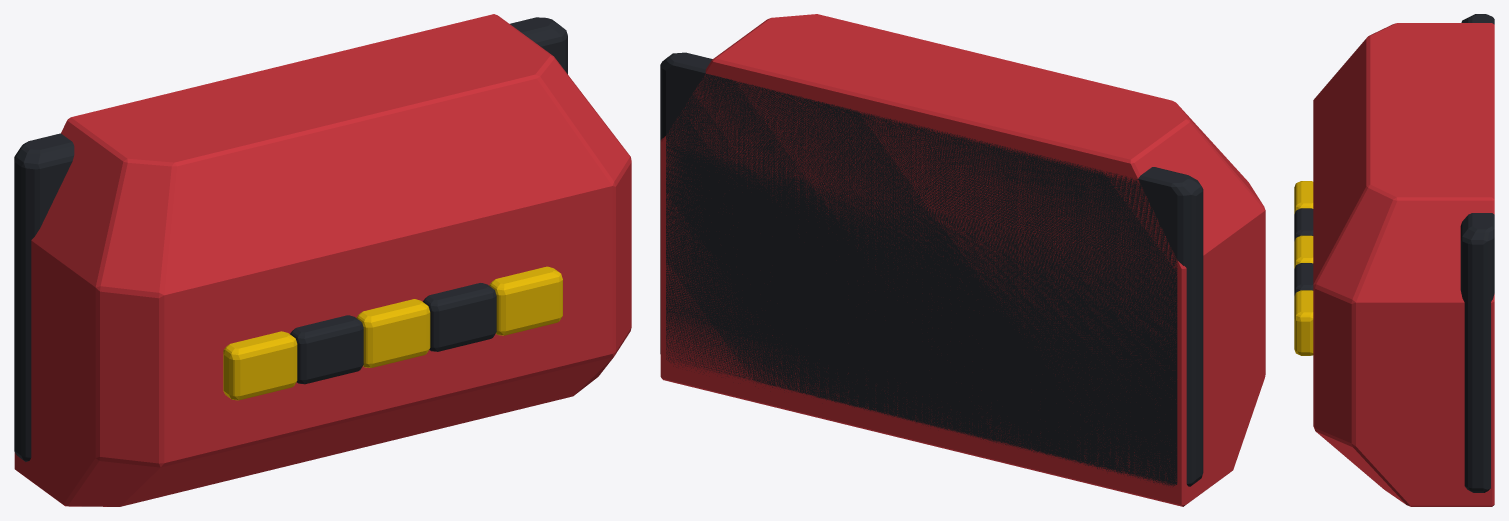
The model's file is FootBack_Set07_Salvo.fbx.
The picture shows the model from 3 angles, left to right: view 1: azimuth 30°, elevation 25°; view 2: azimuth 150°, elevation 25°; view 3: azimuth 270°, elevation 25°; orthographic projection. The views are drawn at different scales.
Parts seen in each view (by area): view 1: FootBack_Set07_Salvo; view 2: FootBack_Set07_Salvo; view 3: FootBack_Set07_Salvo.
Part boxes in pixels (x1=…): FootBack_Set07_Salvo: x1=14, y1=14, x2=631, y2=506; FootBack_Set07_Salvo: x1=660, y1=14, x2=1265, y2=506; FootBack_Set07_Salvo: x1=1294, y1=14, x2=1494, y2=506.
Bounding box in the file's own units: 0.4692 × 0.28 × 0.1768.
